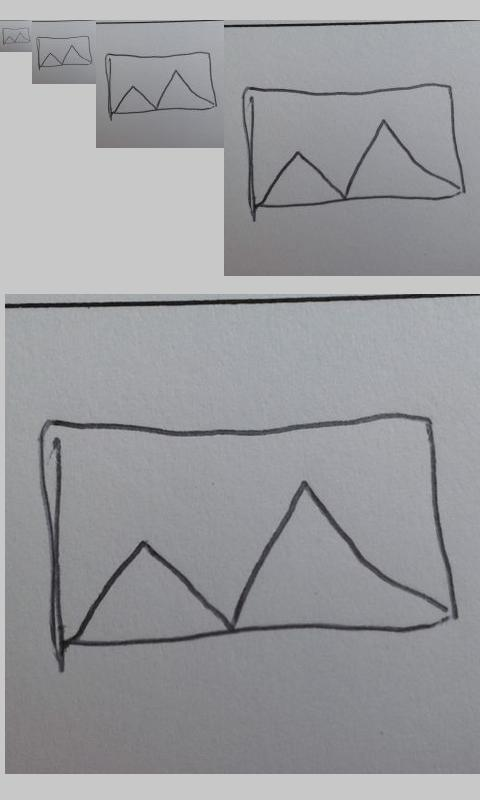image_view: (36, 412, 462, 656), (239, 79, 467, 211), (103, 51, 219, 115), (35, 36, 93, 68), (2, 27, 31, 45)
